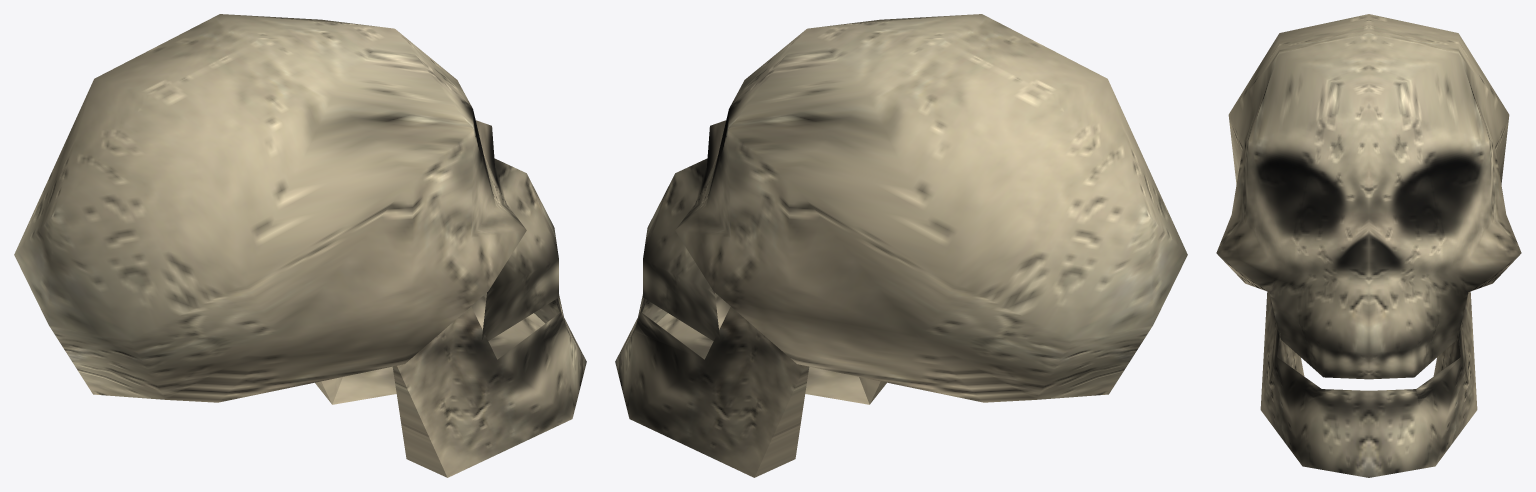
File: Skull01.FBX
3 renders of one model, left to right at view 1: azimuth 30°, elevation 25°; view 2: azimuth 150°, elevation 25°; view 3: azimuth 270°, elevation 25°, orthographic. The views are drawn at different scales.
Parts seen in each view (by area): view 1: Skull01; view 2: Skull01; view 3: Skull01.
Boxes of the visible parts, x1,y1,x2,y2 form: Skull01: (14,14,586,477); Skull01: (615,14,1187,477); Skull01: (1216,14,1521,477).
Bounding box in the file's own units: 11.48 × 8.51 × 7.11.
